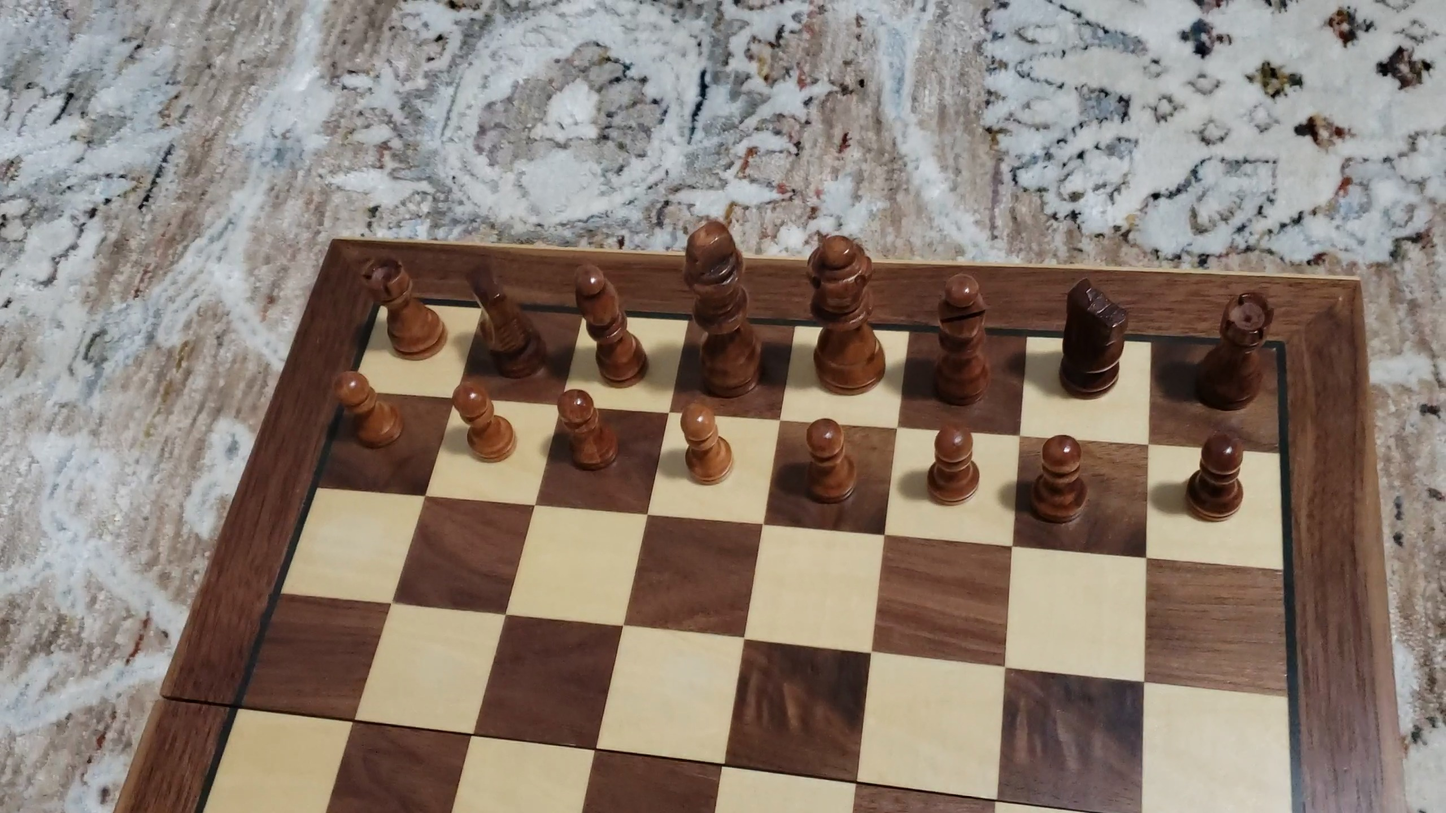black-bishop: (560, 258, 655, 388), (932, 272, 991, 406)
black-king: (674, 218, 764, 396)
black-knight: (468, 261, 546, 379), (1056, 275, 1128, 398)
black-pawn: (1177, 426, 1259, 527), (326, 369, 413, 458), (1019, 434, 1097, 533), (453, 377, 529, 476), (794, 411, 866, 513), (911, 422, 987, 514), (548, 386, 622, 480), (674, 401, 743, 498)
black-queen: (800, 226, 893, 401)
black-rook: (1194, 289, 1274, 411), (361, 254, 447, 361)
